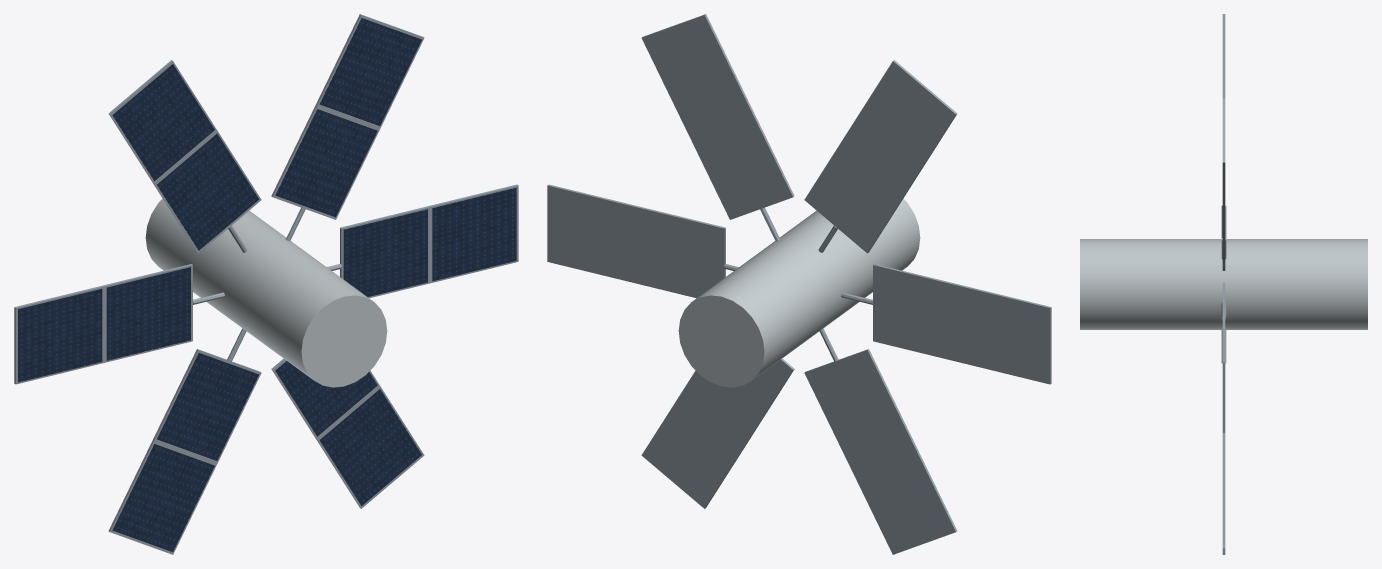
The model's file is ref-molniya-2-5620.glb.
3 views of the same model, side by side, from view 1: azimuth 30°, elevation 25°; view 2: azimuth 150°, elevation 25°; view 3: azimuth 270°, elevation 25° (orthographic). The views are drawn at different scales.
Parts seen in each view (by area): view 1: Photovoltaic laminates (×12), Spacecraft body, Array frame (×11); view 2: Array frame (×12), Spacecraft body; view 3: Spacecraft body, Array frame (×3).
Boxes of the visible parts, bbox=[...] form: Photovoltaic laminates (×12): bbox=[18, 18, 516, 551]; Spacecraft body: bbox=[145, 199, 387, 387]; Array frame (×11): bbox=[14, 14, 518, 554]; Array frame (×12): bbox=[547, 14, 1051, 554]; Spacecraft body: bbox=[678, 199, 920, 387]; Spacecraft body: bbox=[1080, 239, 1367, 329]; Array frame (×3): bbox=[1222, 98, 1225, 554].
Size of the model in its own units: 8.2 by 7.7 by 4.4.
Materials: 3 (1 with a texture image).
